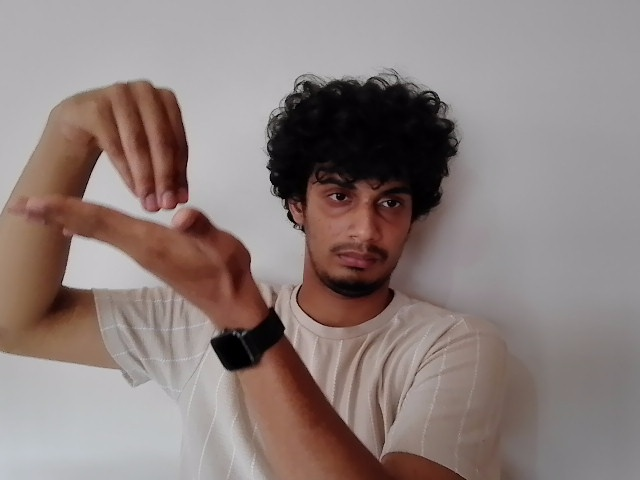learn: (11, 80, 257, 290)
